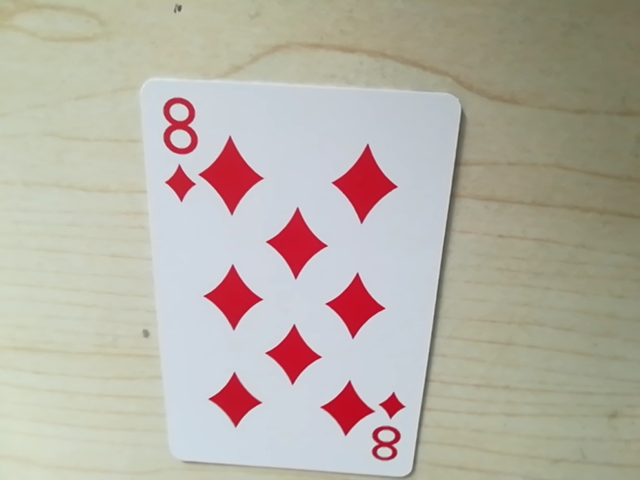fk 8: (152, 89, 208, 197), (364, 401, 409, 473)
